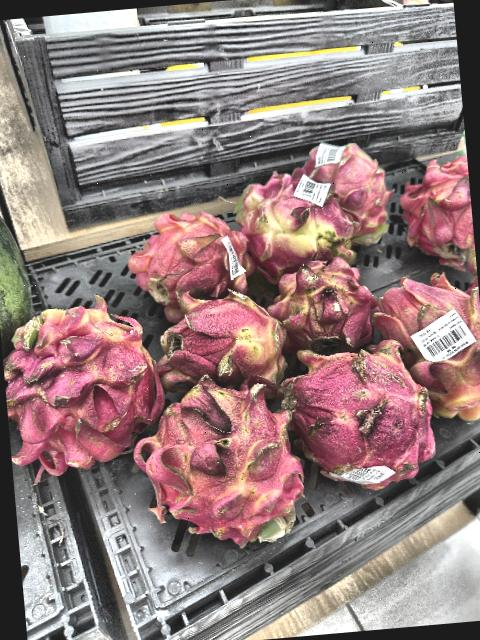buah-naga-belum-matang: (115, 370, 325, 550), (0, 283, 163, 466), (371, 273, 480, 444), (150, 284, 296, 389), (130, 198, 255, 316), (234, 160, 348, 280), (276, 244, 384, 346), (310, 137, 400, 250), (416, 151, 474, 254)
buah-naga-matang: (276, 324, 446, 488)
